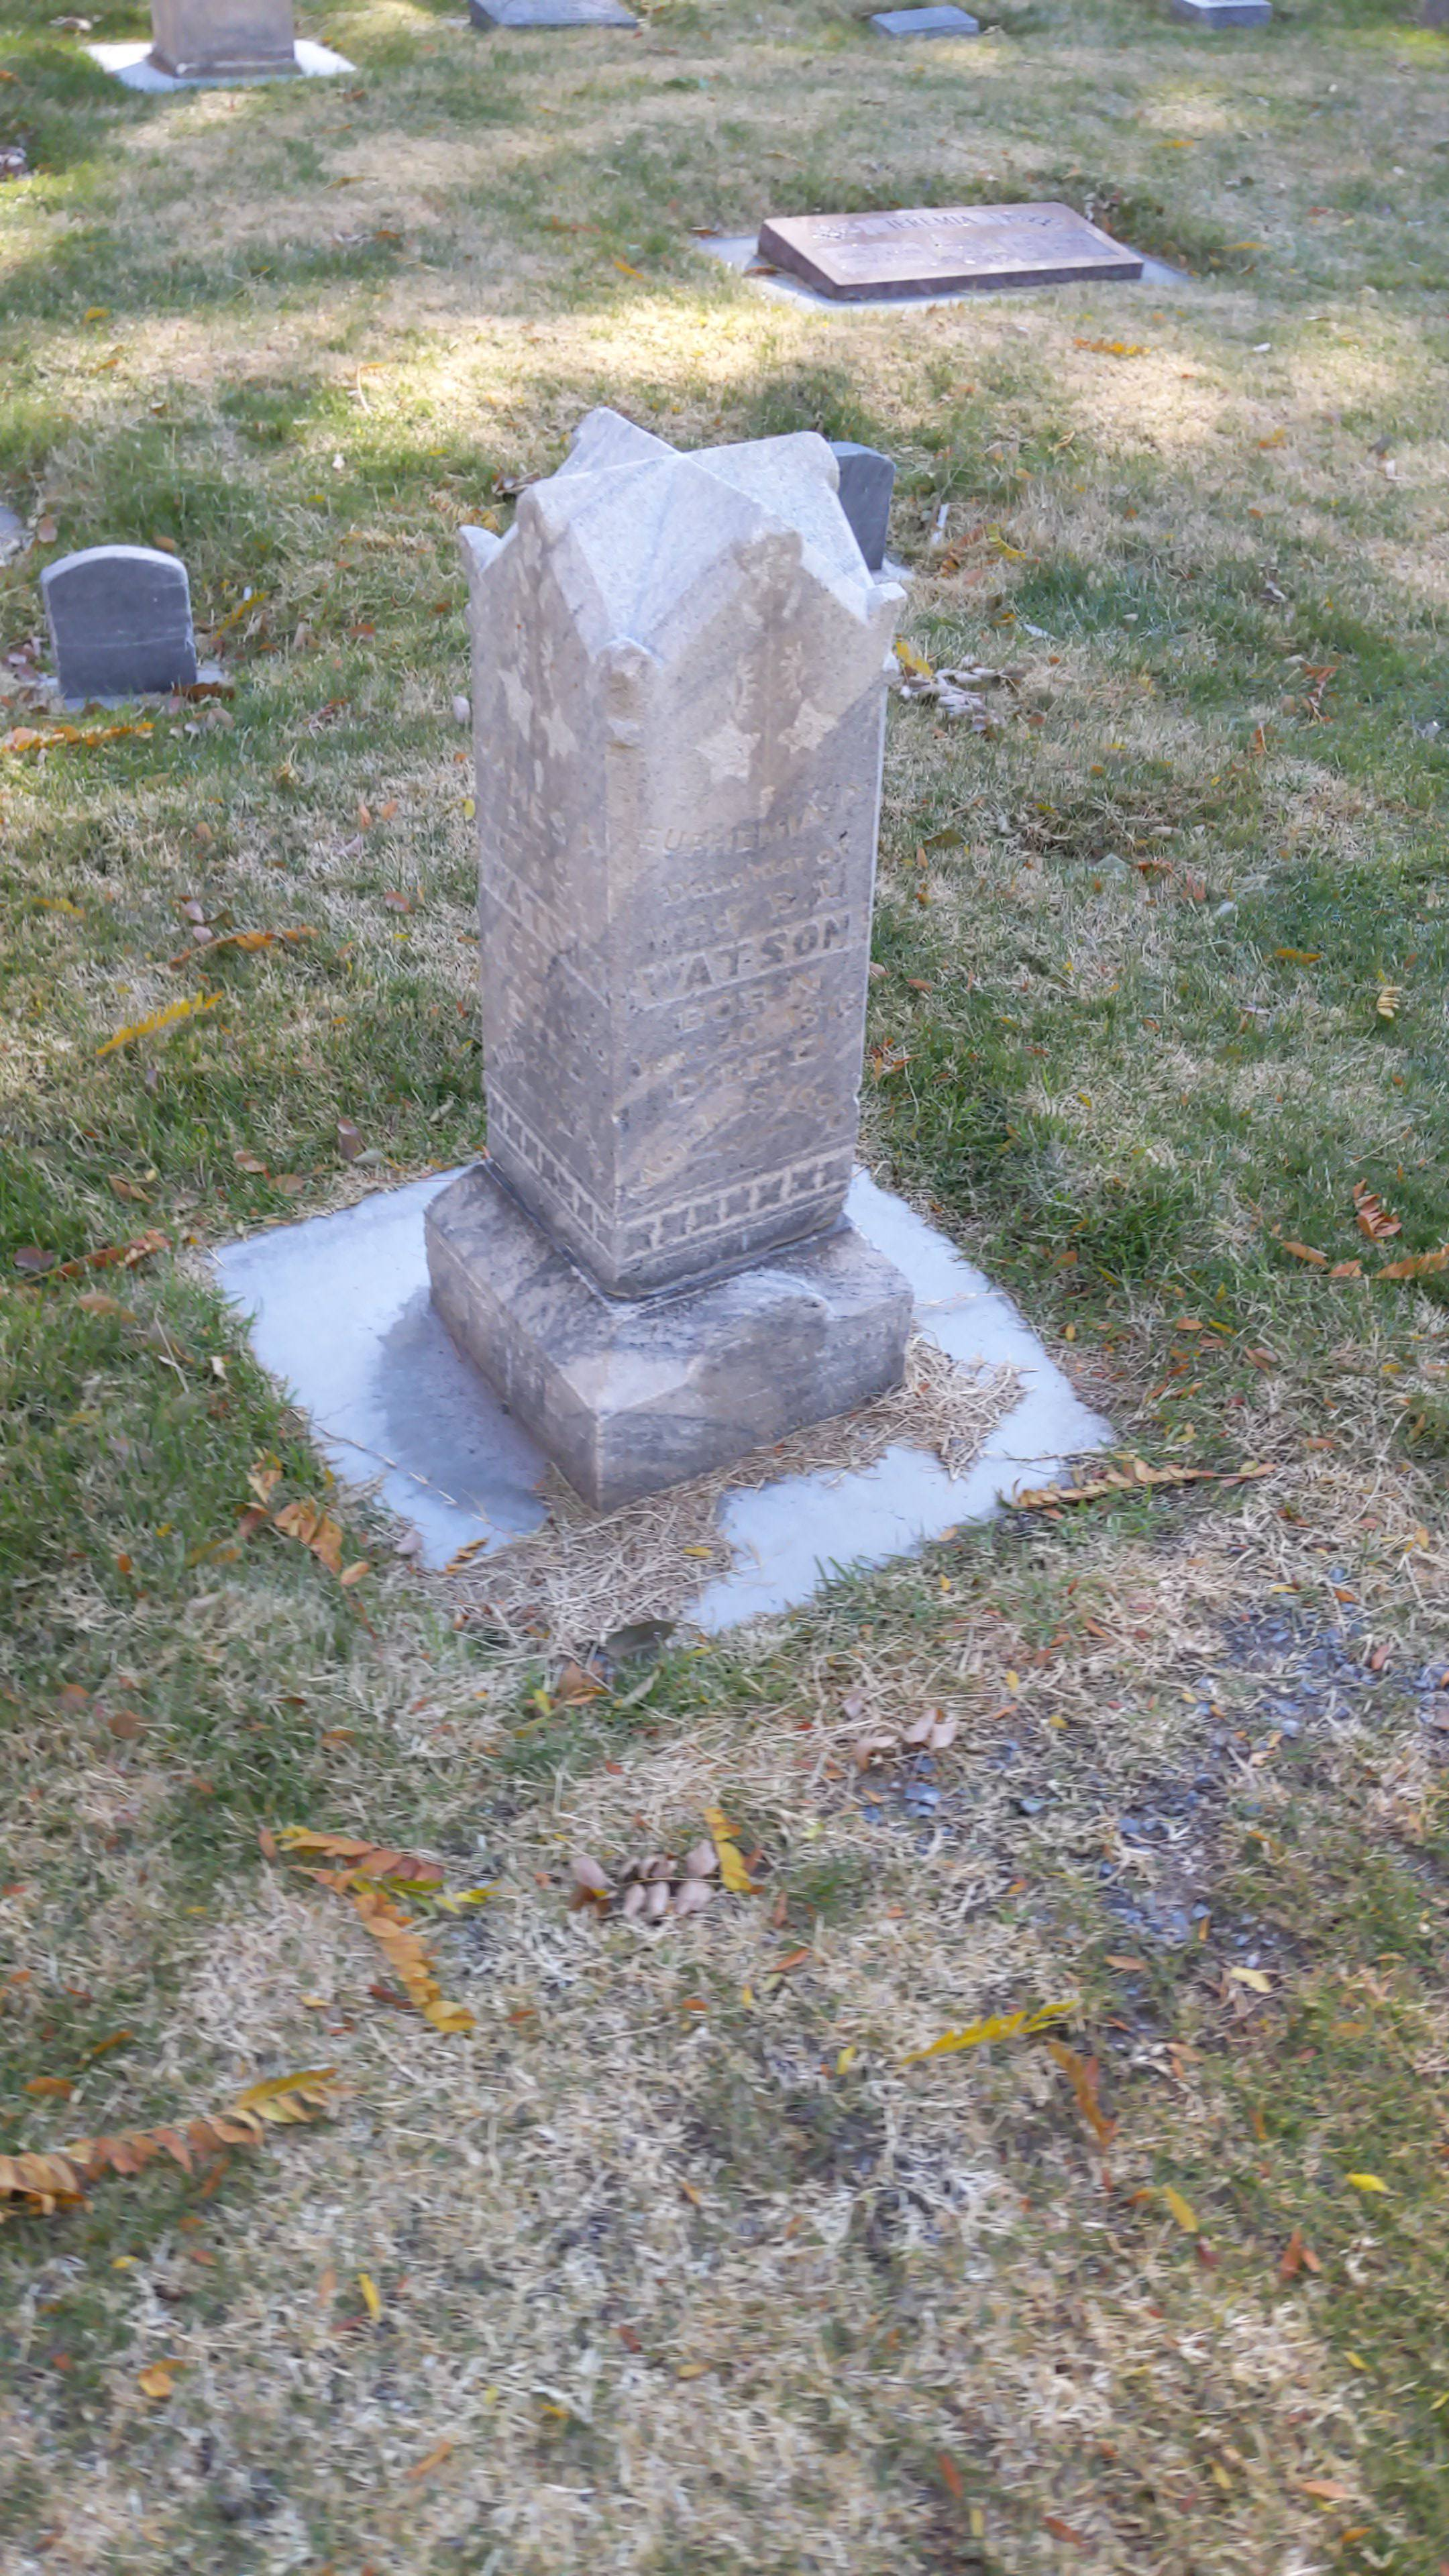obelisk: (446, 410, 908, 1483)
